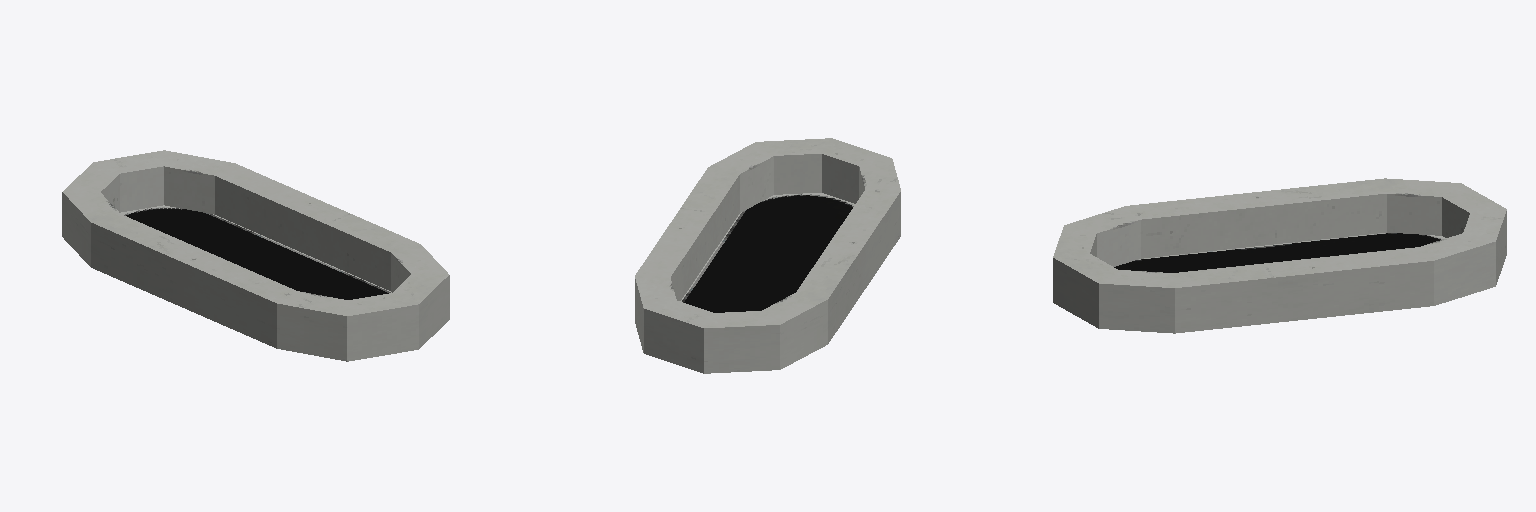
3 views of the same model, side by side, from view 1: azimuth 30°, elevation 25°; view 2: azimuth 150°, elevation 25°; view 3: azimuth 270°, elevation 25° (orthographic).
Parts seen in each view (by area): view 1: holder_01_low; view 2: holder_01_low; view 3: holder_01_low.
Boxes of the visible parts, x1=… form: holder_01_low: x1=62, y1=150, x2=449, y2=361; holder_01_low: x1=635, y1=138, x2=900, y2=373; holder_01_low: x1=1053, y1=178, x2=1506, y2=333.
Bounding box in the file's own units: 0.4094 × 0.0788 × 0.7153.
1 materials, 1 textured.